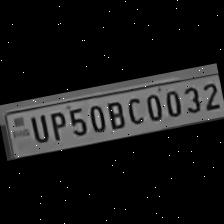0: (82, 100, 107, 135), (140, 88, 164, 124), (160, 86, 183, 118)
2: (196, 78, 222, 112)
3: (178, 82, 202, 116)
5: (63, 104, 89, 138)
B: (103, 98, 128, 131)
C: (122, 94, 146, 127)
P: (44, 108, 69, 144)
U: (26, 111, 50, 146)
